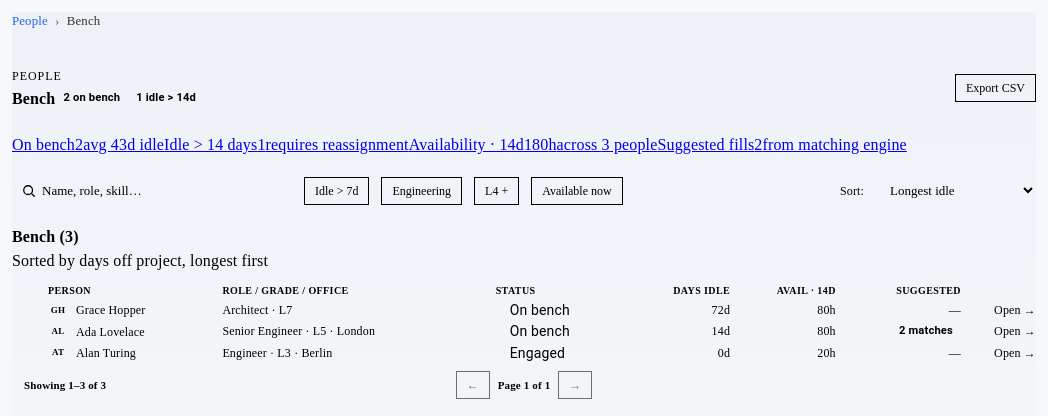
Scenario: BenchEnrichedPanel — SoT PR 17h-bench DS canvas filter+bulk bars › search filters rows by name / role / grade
Expected: the element with test id "bench-enriched-list" is shown, x1=12 y1=281 x2=1036 y2=363
Expected: the text "Ada Lovelace" is shown, x1=76 y1=323 x2=145 y2=341
Type "Architect" into the search field with test id "bench-search".
click(152, 191); type("Architect")  # box x1=12 y1=173 x2=292 y2=209
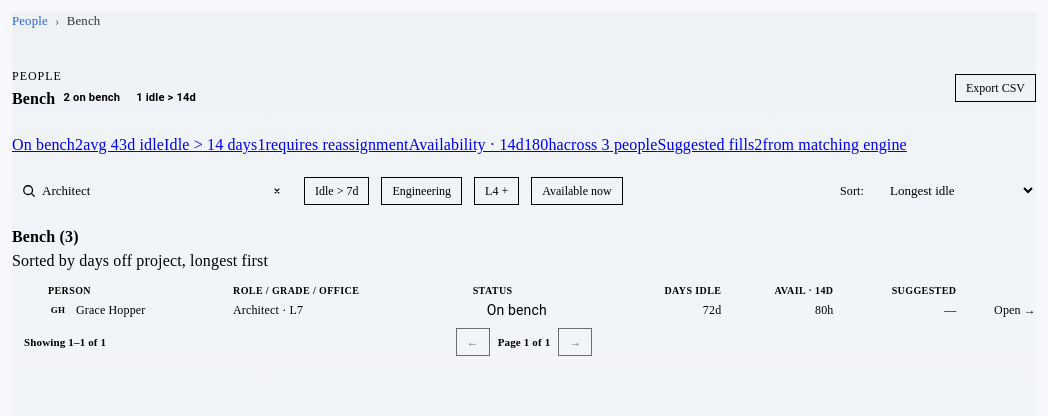
Expected: the text "Grace Hopper" is shown, x1=76 y1=301 x2=145 y2=319
Result: the link "Ada Lovelace" is gone
